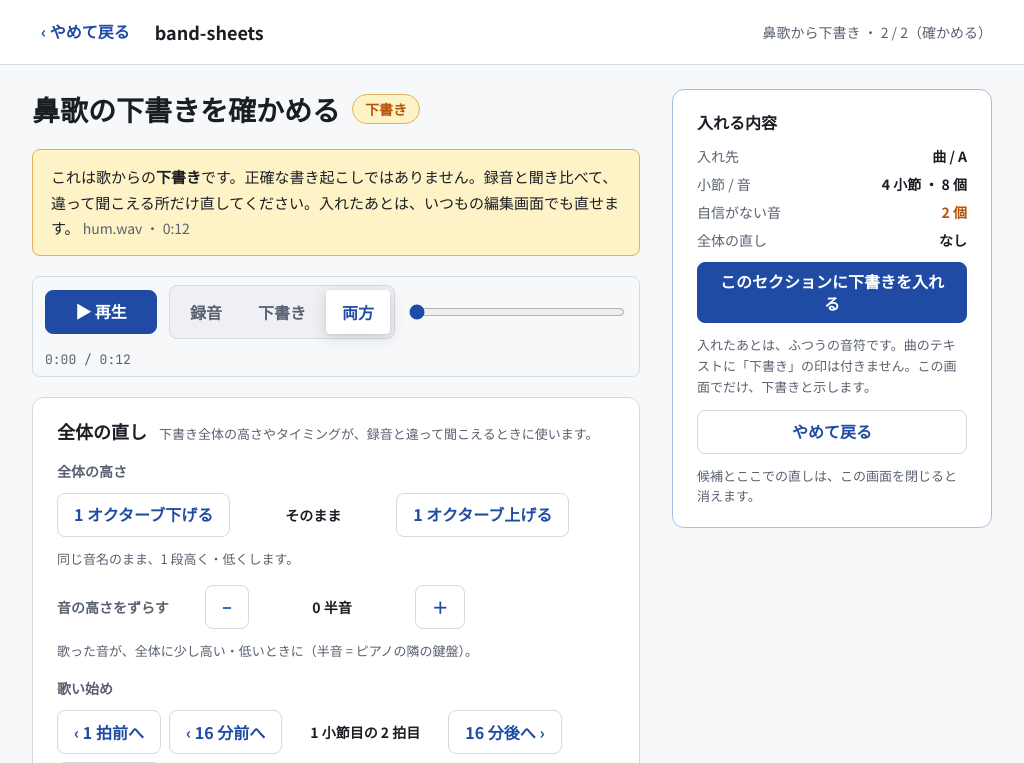
Test: HumReview fixes (characterization) › the live region says what a fix did
What coordinates should you click on to do the following:
click the button "1 オクターブ上げる"
I would click on:
 (483, 515)
Its box is [396,493,569,537].
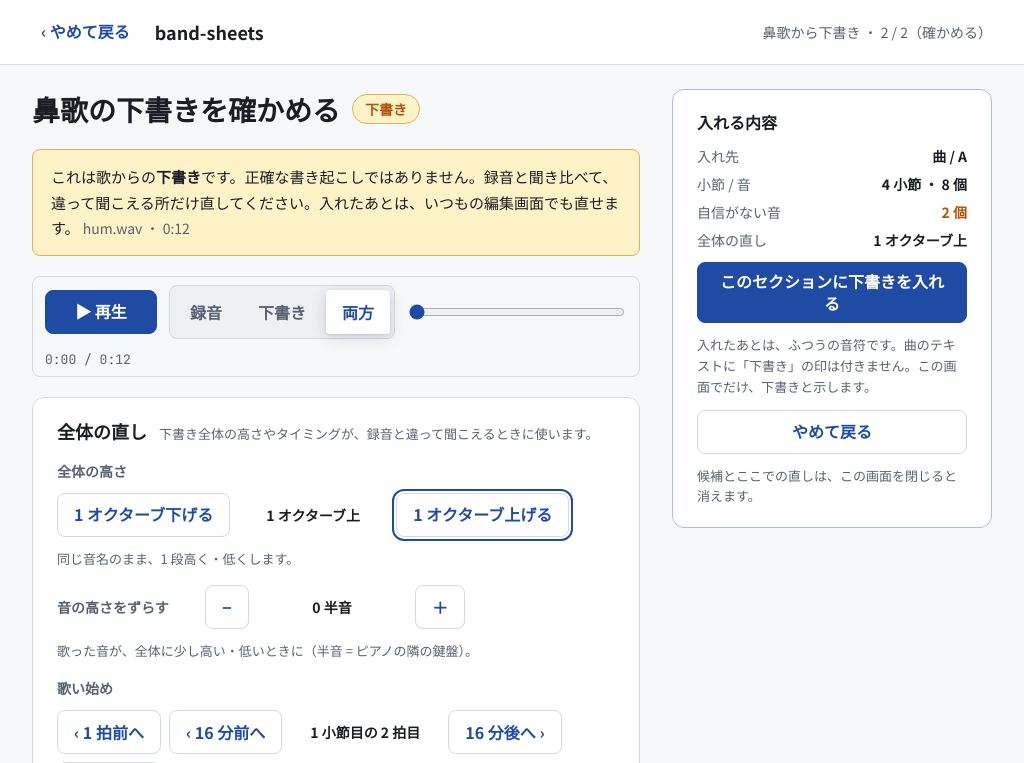
What coordinates should you click on to do the following:
click the button named "半音上げる"
I would click on:
 (440, 607)
Its box is [415,585,465,629].
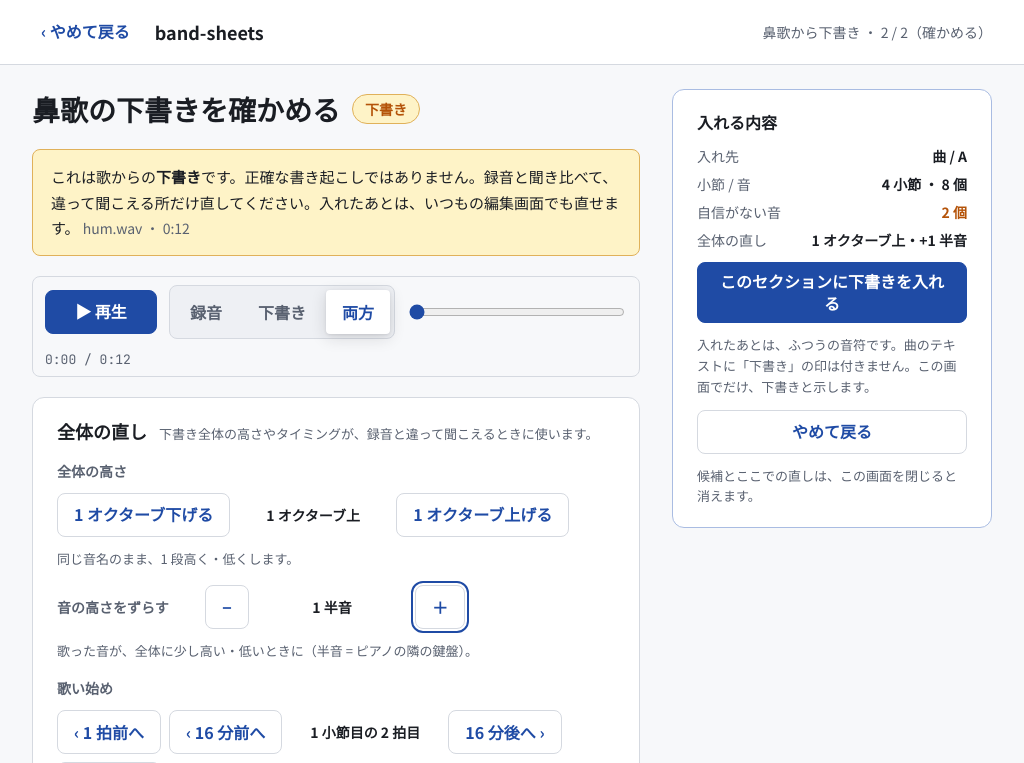
Expected: the text "1 半音" is shown, [312,597,352,617]
